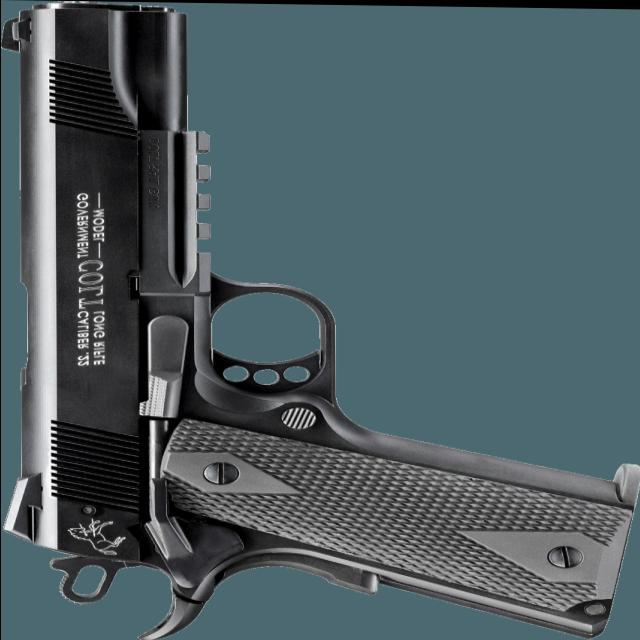handgun: (2, 1, 636, 640)
